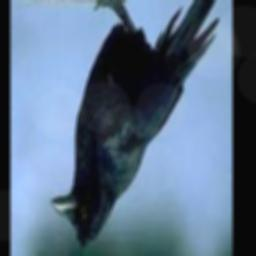Crow: (51, 0, 225, 247)
